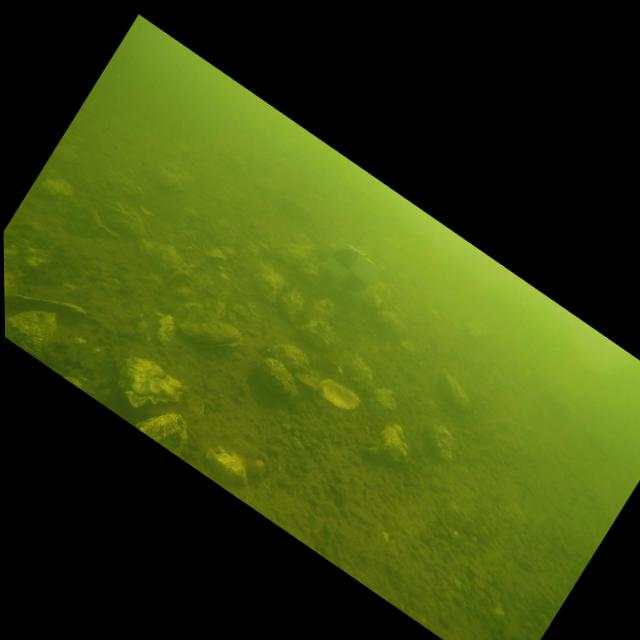Oyster-Closed: (118, 358, 188, 408), (136, 413, 186, 457), (177, 318, 245, 346), (205, 447, 247, 486), (102, 202, 146, 239), (258, 358, 297, 398), (372, 424, 407, 462), (437, 374, 469, 415), (268, 344, 310, 373), (424, 425, 454, 461), (255, 264, 284, 301), (347, 356, 375, 392), (299, 320, 334, 348), (369, 388, 397, 417), (282, 290, 304, 322), (307, 299, 335, 322)
Oyster-Indeterminate: (5, 307, 60, 365), (174, 298, 227, 323), (4, 270, 23, 297)
Oyster-Open: (5, 291, 90, 326), (320, 379, 360, 410)
